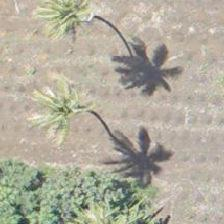Kelapa_Sawit: (25, 77, 115, 167), (20, 0, 110, 58)
